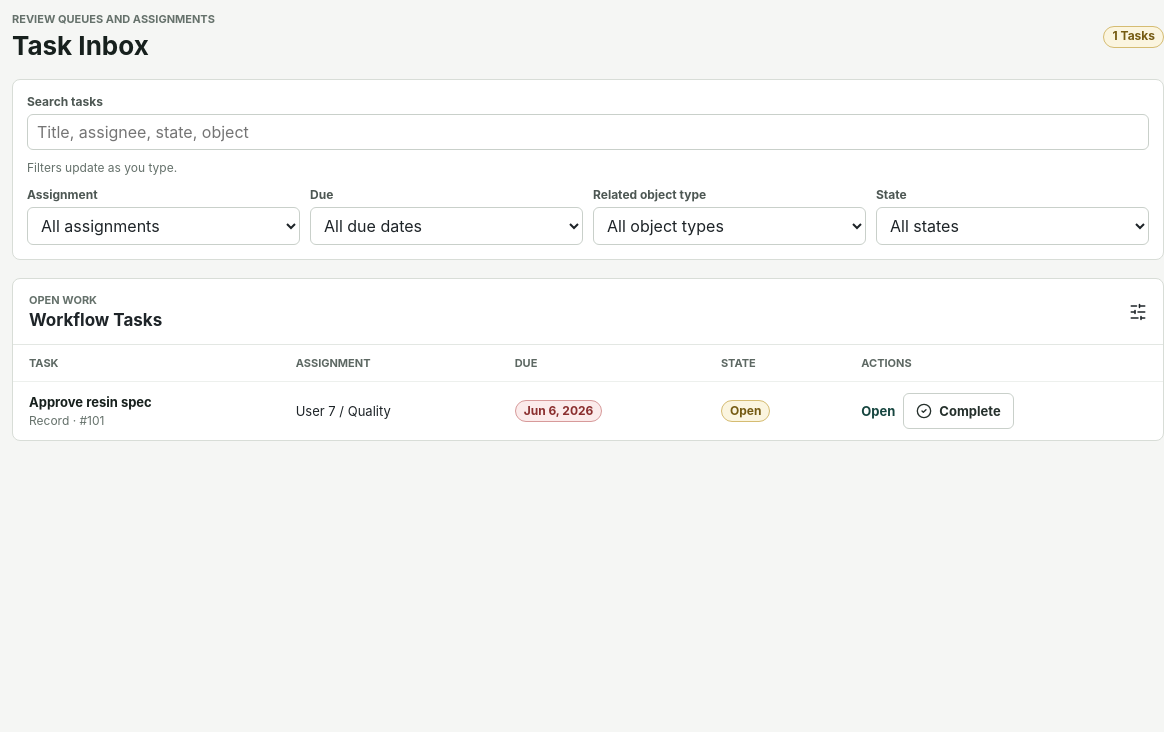
Test: TaskInbox › shows completion errors when a workflow task cannot be completed
Step 1. Click the button "Complete" → (958, 411), box [903,393,1014,429]
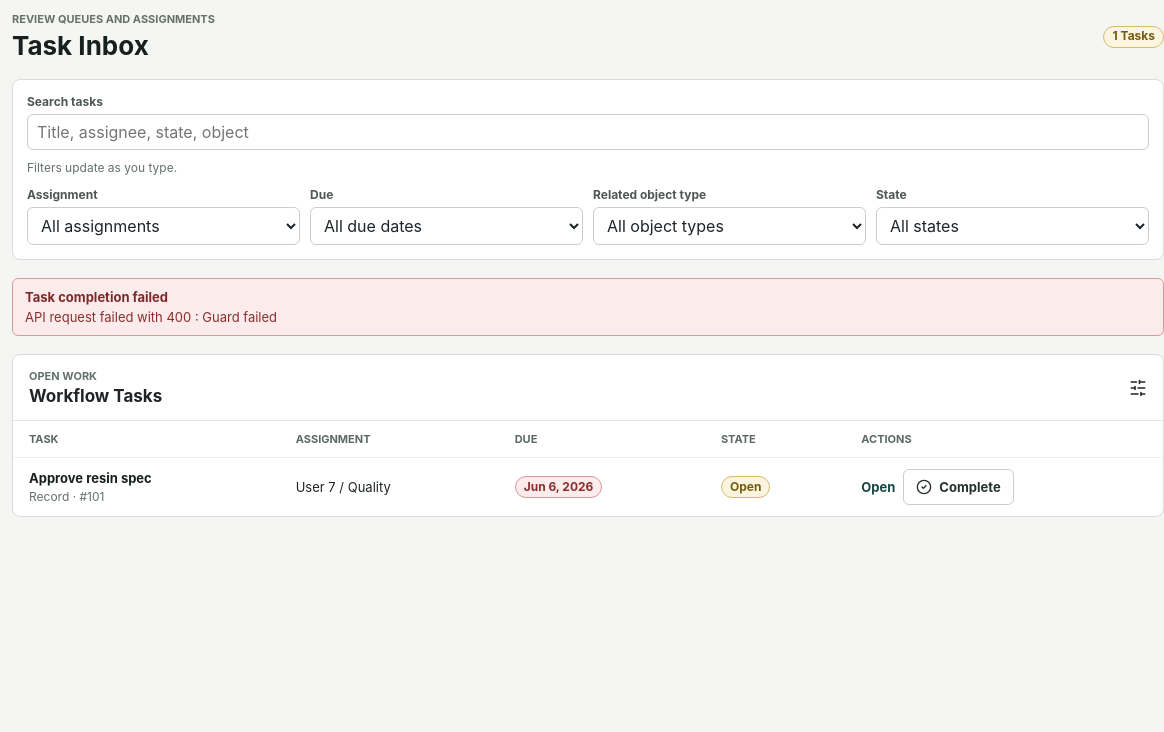
Expected: the message shows "Guard failed", [25,309,277,325]
